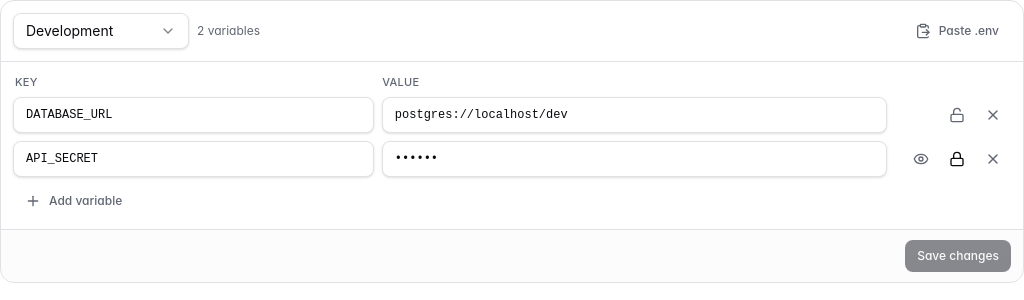
Test case: EnvVariablesEditor › tracks dirty state and saves the current environment
The width and height of the screenshot is (1024, 300).
Check: the button "Save changes" is disabled, box top-left (905, 240), bottom-right (1011, 272)
Replace the text in the field named "Value for DATABASE_URL" with "postgres://db/new" at (634, 114), box top-left (382, 96), bottom-right (887, 132)
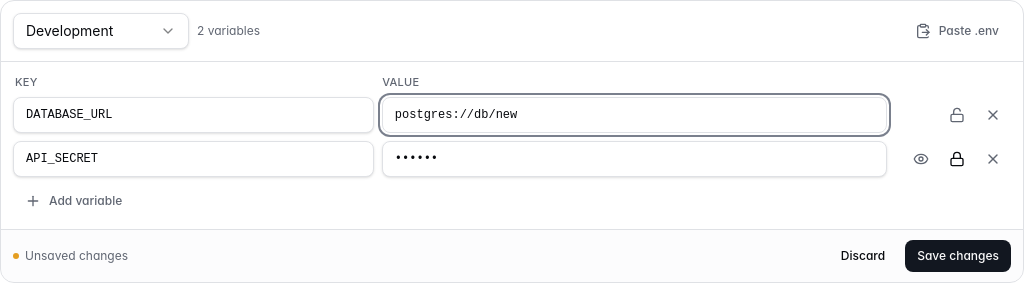
Check: the text "Unsaved changes" is shown, box top-left (13, 248), bottom-right (128, 264)
Click the button "Save changes" at (958, 256), box top-left (905, 240), bottom-right (1011, 272)
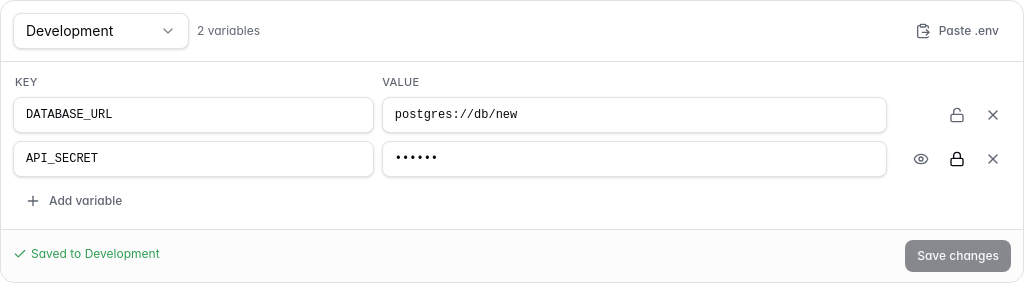
Check: the text "Saved to Development" is shown, box top-left (13, 246), bottom-right (160, 262)
Check: the button "Save changes" is disabled, box top-left (905, 240), bottom-right (1011, 272)
